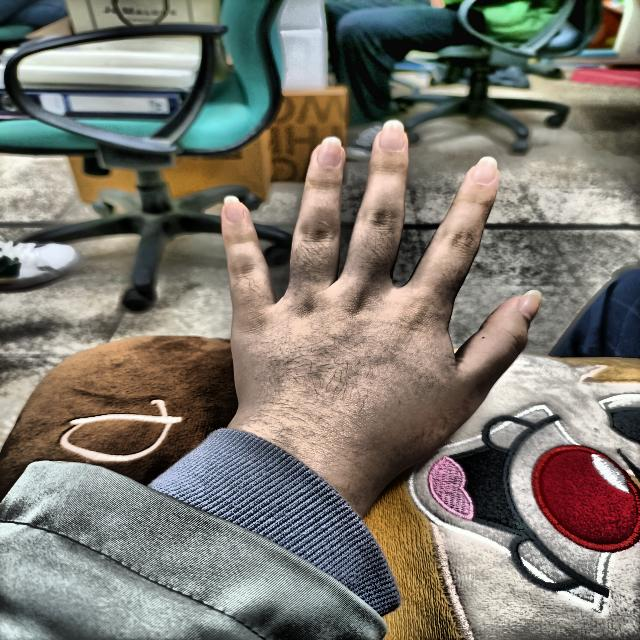not-gloved: (193, 109, 558, 506)
